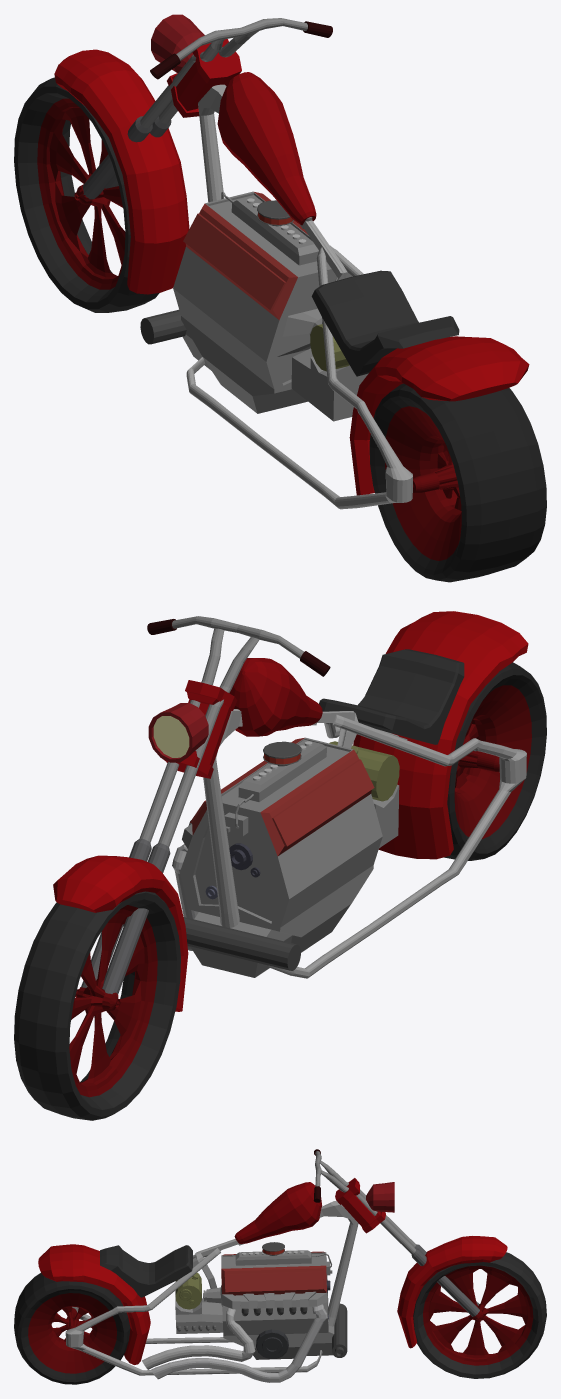
The model's file is v8-chopper1.glb.
3 renders of one model, top to bottom at view 1: azimuth 30°, elevation 25°; view 2: azimuth 150°, elevation 25°; view 3: azimuth 270°, elevation 25°, orthographic. The views are drawn at different scales.
Visible parts, largest first — view 1: Body, Rear wheel, Front steer, Front wheel; view 2: Body, Front wheel, Front steer, Rear wheel; view 3: Body, Front wheel, Rear wheel, Front steer.
Boxes of the visible parts, box(x1,y1,x2,y2) form: Body: box(140, 72, 529, 509); Rear wheel: box(369, 383, 546, 582); Front steer: box(54, 14, 332, 294); Front wheel: box(14, 77, 159, 312); Body: box(172, 611, 528, 978); Front wheel: box(14, 891, 180, 1120); Front steer: box(53, 616, 330, 1011); Rear wheel: box(444, 662, 546, 860); Body: box(38, 1182, 358, 1382); Front wheel: box(413, 1252, 546, 1378); Rear wheel: box(14, 1273, 130, 1384); Front steer: box(313, 1149, 507, 1348).
Bounding box in the file's own units: 2.2 × 4.27 × 9.55.
